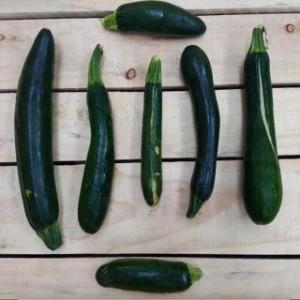zucchini: (12, 29, 80, 255)
